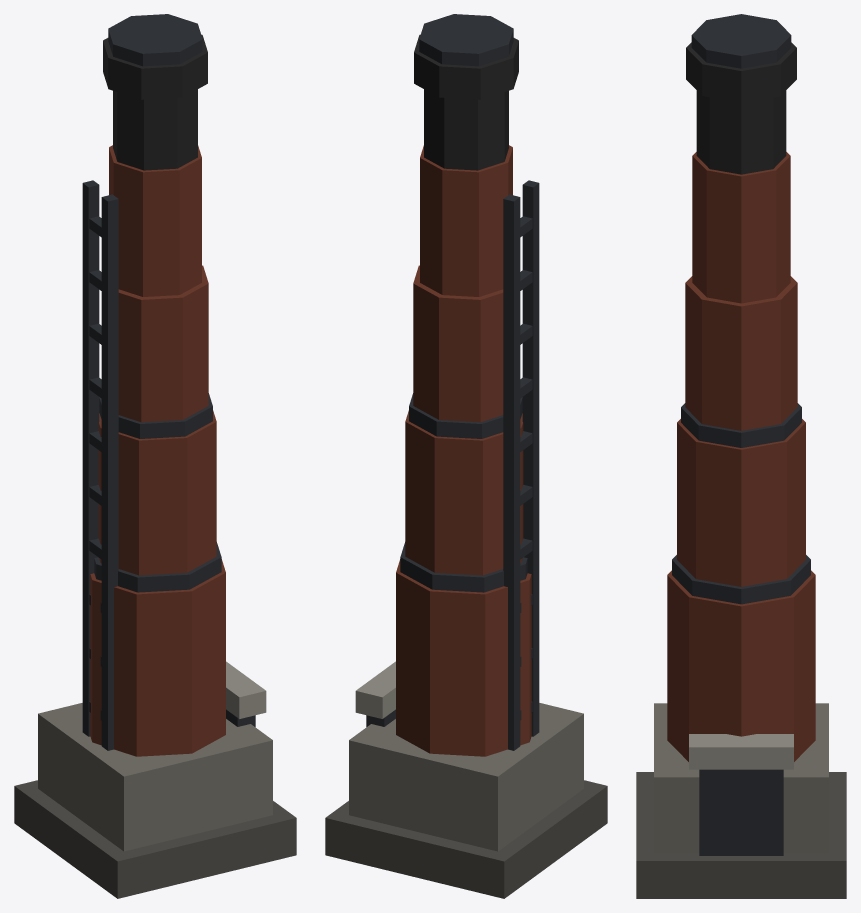
The model's file is chimney_stack.glb.
The picture shows the model from 3 angles, left to right: view 1: azimuth 30°, elevation 25°; view 2: azimuth 150°, elevation 25°; view 3: azimuth 270°, elevation 25°; orthographic projection.
Visible parts, largest first — view 1: Cube.001, Cylinder, Cylinder.001, Cube, Cylinder.003, Cylinder.005, Cube.004, Cube.005, Cylinder.006, Cylinder.008, Cylinder.007, Cylinder.002 (+2 smaller); view 2: Cube.001, Cylinder, Cylinder.001, Cube, Cylinder.003, Cylinder.005, Cube.005, Cube.004, Cylinder.006, Cylinder.008, Cylinder.007, Cylinder.002 (+2 smaller); view 3: Cylinder, Cylinder.001, Cylinder.003, Cylinder.005, Cube, Cube.001, Cube.002, Cylinder.006, Cylinder.008, Cylinder.007, Cube.003, Cylinder.002 (+1 smaller).
Part boxes in pixels (x1,y1,x2,y2): Cube.001: (38,703,272,851); Cylinder: (90,559,225,756); Cylinder.001: (98,410,216,575); Cube: (14,780,296,898); Cylinder.003: (118,265,208,422); Cylinder.005: (109,145,201,296); Cube.004: (101,194,118,750); Cube.005: (82,180,99,736); Cylinder.006: (113,89,197,170); Cylinder.008: (108,14,202,66); Cylinder.007: (103,34,207,99); Cylinder.002: (94,542,221,592); Cube.001: (349,703,583,851); Cylinder: (396,559,531,756); Cylinder.001: (405,410,523,575); Cube: (325,780,607,898); Cylinder.003: (413,265,503,422); Cylinder.005: (420,145,512,296); Cube.005: (503,194,520,750); Cube.004: (522,180,539,736); Cylinder.006: (424,89,508,170); Cylinder.008: (419,14,513,66); Cylinder.007: (414,34,518,99); Cylinder.002: (400,542,527,592); Cylinder: (667,570,815,761); Cylinder.001: (677,419,805,586); Cylinder.003: (685,276,797,430); Cylinder.005: (692,152,790,303); Cube: (636,772,846,898); Cube.001: (654,703,828,853); Cube.002: (699,769,783,855); Cylinder.006: (696,90,786,174); Cylinder.008: (691,14,791,68); Cylinder.007: (686,42,796,102); Cube.003: (689,734,793,769); Cylinder.002: (672,555,810,604).
Size of the model in its own units: 30 by 129 by 30.
